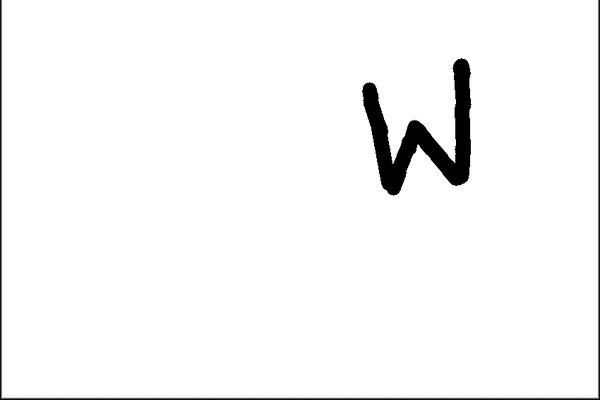w: (337, 44, 485, 207)
